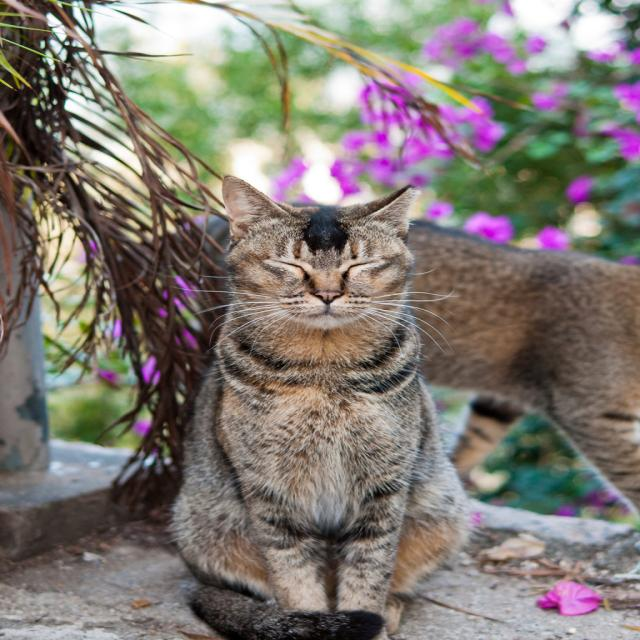Cat: (104, 197, 638, 531)
